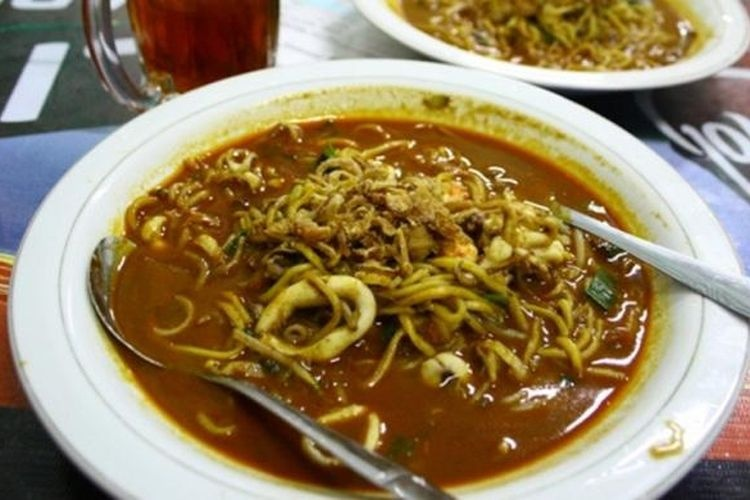mie_aceh: (122, 124, 654, 476)
